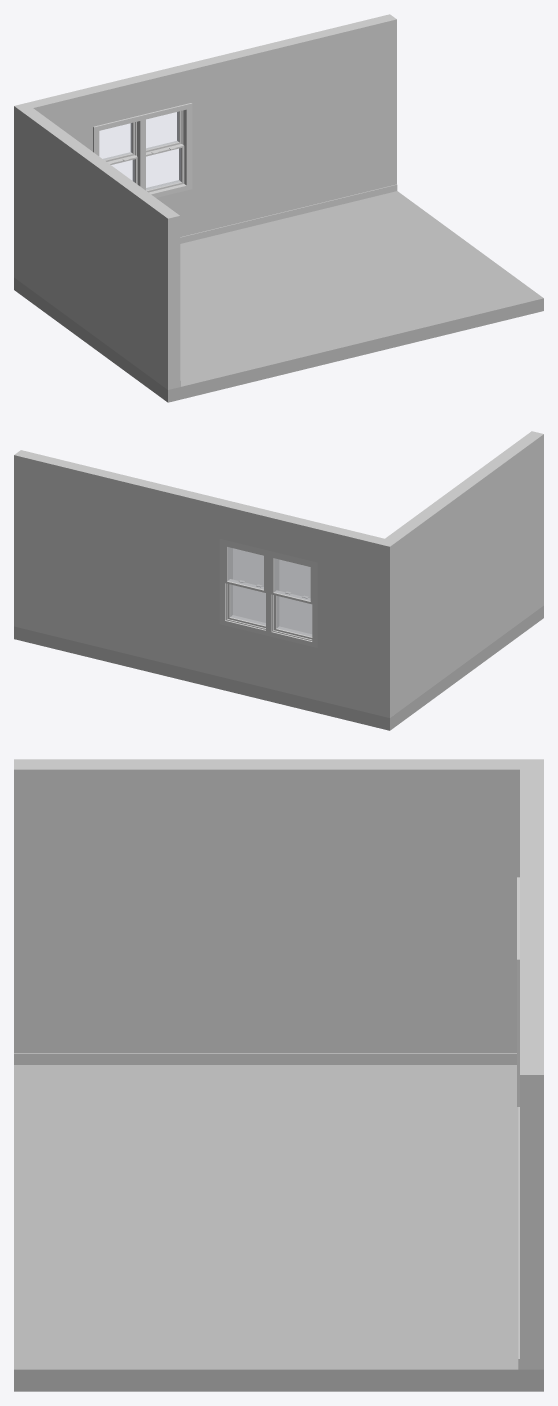
3 renders of one model, top to bottom at view 1: azimuth 30°, elevation 25°; view 2: azimuth 150°, elevation 25°; view 3: azimuth 270°, elevation 25°, orthographic. The views are drawn at different scales.
Size of the model in its own units: 248 by 116 by 176.
